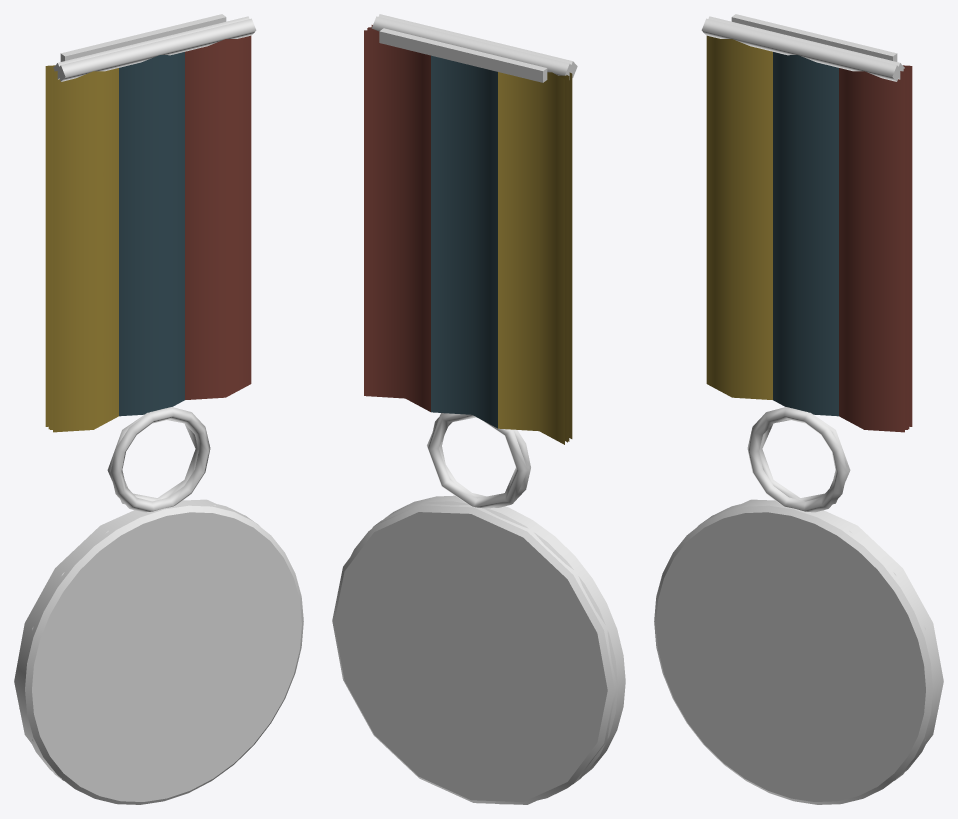
Rendered from inspect_medal_sport.glb.
3 views of the same model, side by side, from view 1: azimuth 30°, elevation 25°; view 2: azimuth 150°, elevation 25°; view 3: azimuth 330°, elevation 25° (orthographic).
Parts seen in each view (by area): view 1: inspect_medal_sport-2, inspect_medal_sport-1, inspect_medal_sport-0, inspect_medal_sport-3, inspect_medal_sport_lod-2, inspect_medal_sport_lod-3, inspect_medal_sport_lod-0; view 2: inspect_medal_sport_lod-2, inspect_medal_sport_lod-0, inspect_medal_sport_lod-3, inspect_medal_sport-3, inspect_medal_sport-0, inspect_medal_sport-2; view 3: inspect_medal_sport-2, inspect_medal_sport-1, inspect_medal_sport-0, inspect_medal_sport-3, inspect_medal_sport_lod-2, inspect_medal_sport_lod-3, inspect_medal_sport_lod-0.
Boxes of the visible parts, left/top/right/bottom form: inspect_medal_sport-2: left=48, top=35, right=251, bottom=432; inspect_medal_sport-1: left=57, top=539, right=277, bottom=775; inspect_medal_sport-0: left=17, top=500, right=303, bottom=804; inspect_medal_sport-3: left=56, top=14, right=256, bottom=512; inspect_medal_sport_lod-2: left=45, top=65, right=54, bottom=429; inspect_medal_sport_lod-3: left=53, top=16, right=249, bottom=504; inspect_medal_sport_lod-0: left=14, top=499, right=260, bottom=780; inspect_medal_sport_lod-2: left=364, top=27, right=569, bottom=444; inspect_medal_sport_lod-0: left=332, top=499, right=617, bottom=804; inspect_medal_sport_lod-3: left=371, top=16, right=572, bottom=508; inspect_medal_sport-3: left=378, top=14, right=577, bottom=507; inspect_medal_sport-0: left=350, top=495, right=625, bottom=804; inspect_medal_sport-2: left=367, top=25, right=572, bottom=442; inspect_medal_sport-2: left=706, top=35, right=909, bottom=432; inspect_medal_sport-1: left=680, top=539, right=900, bottom=775; inspect_medal_sport-0: left=654, top=500, right=940, bottom=804; inspect_medal_sport-3: left=701, top=14, right=901, bottom=512; inspect_medal_sport_lod-2: left=903, top=65, right=912, bottom=429; inspect_medal_sport_lod-3: left=708, top=16, right=904, bottom=504; inspect_medal_sport_lod-0: left=697, top=499, right=943, bottom=780.
Size of the model in its own units: 0.038 by 0.0981 by 0.0061.
